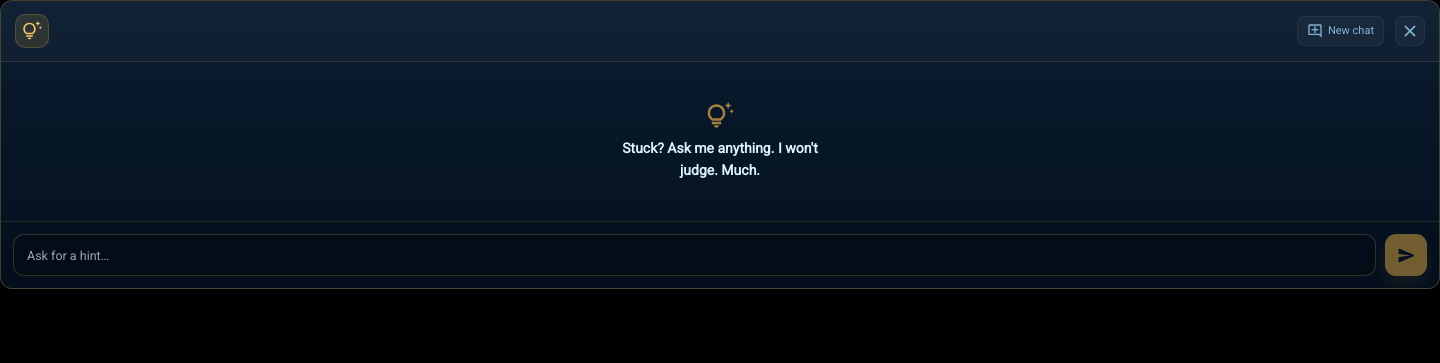
Scenario: HintPanel Component › a failed ask shows an error, restores the question, and does NOT poison the history
Type "help" into the field with test id "hint-input" at (694, 255), box [13,234,1376,276]
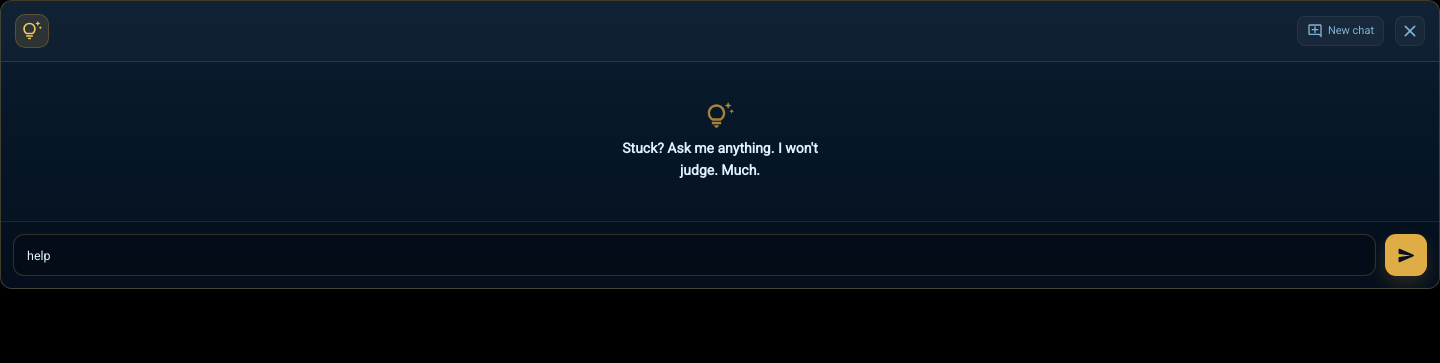
Click the button with test id "hint-send" at (1406, 255), box [1385,234,1427,276]
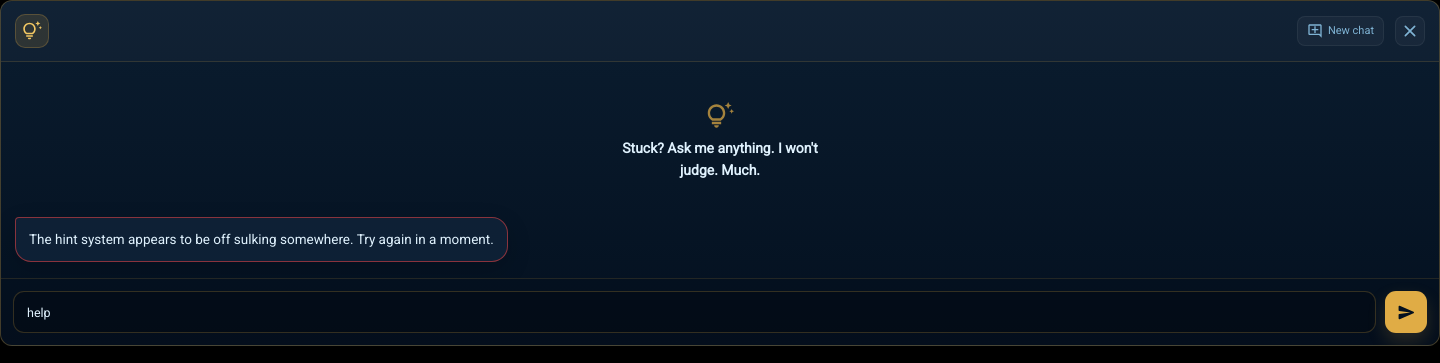
Check: the text with test id "hint-error" is shown, box [15,217,508,262]
